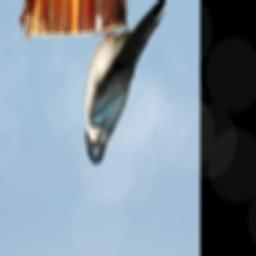Swallow: (84, 0, 167, 167)
